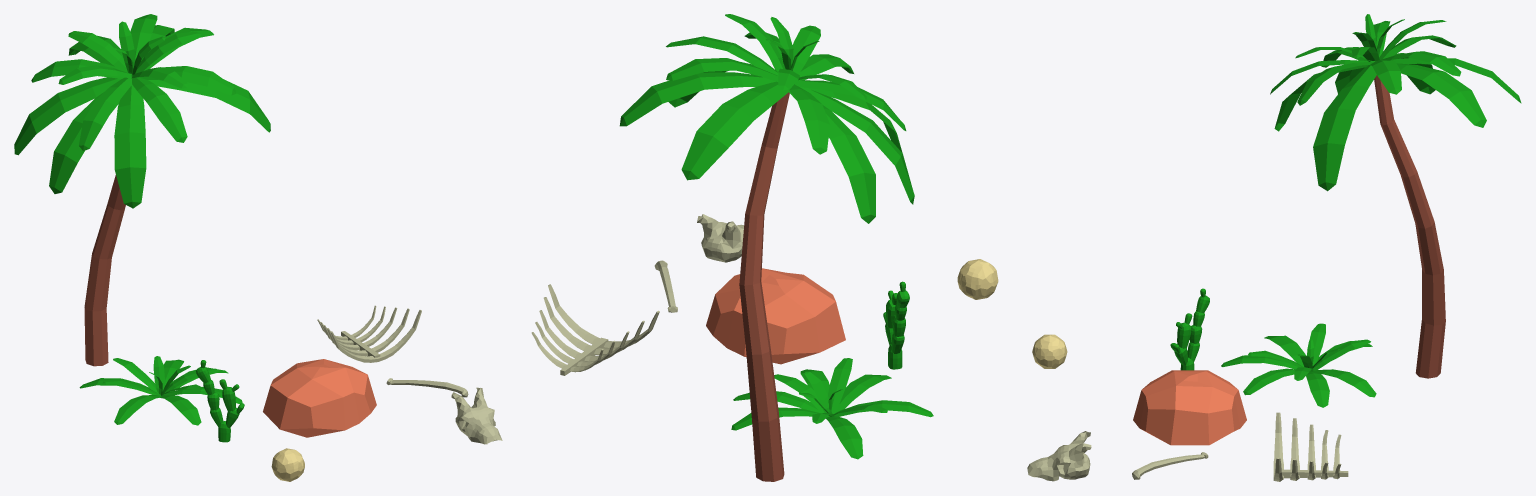
The model's file is instanciable_meshes.fbx.
The picture shows the model from 3 angles, left to right: view 1: azimuth 30°, elevation 25°; view 2: azimuth 150°, elevation 25°; view 3: azimuth 270°, elevation 25°; orthographic projection. The views are drawn at different scales.
Visible parts, largest first — view 1: Palm tree, Rock, Fern, Rib cage, Skull, Cactus, Tumbleweed, Bone; view 2: Palm tree, Rock, Fern, Rib cage, Skull, Cactus, Tumbleweed, Bone; view 3: Palm tree, Rock, Fern, Rib cage, Skull, Cactus, Tumbleweed, Bone.
Boxes of the visible parts, bbox=[...] form: Palm tree: bbox=[14, 14, 270, 366]; Rock: bbox=[263, 359, 376, 437]; Fern: bbox=[79, 356, 242, 425]; Rib cage: bbox=[317, 305, 421, 362]; Skull: bbox=[451, 387, 502, 444]; Cactus: bbox=[196, 360, 244, 442]; Tumbleweed: bbox=[271, 448, 304, 481]; Bone: bbox=[386, 378, 468, 397]; Palm tree: bbox=[619, 14, 914, 481]; Rock: bbox=[706, 268, 845, 364]; Fern: bbox=[731, 358, 933, 459]; Rib cage: bbox=[531, 284, 659, 375]; Skull: bbox=[697, 214, 743, 262]; Cactus: bbox=[883, 281, 909, 369]; Tumbleweed: bbox=[957, 259, 998, 299]; Bone: bbox=[654, 260, 677, 312]; Palm tree: bbox=[1270, 14, 1521, 378]; Rock: bbox=[1133, 370, 1246, 445]; Fern: bbox=[1221, 323, 1376, 407]; Rib cage: bbox=[1273, 412, 1348, 481]; Skull: bbox=[1027, 431, 1091, 481]; Cactus: bbox=[1170, 288, 1209, 370]; Tumbleweed: bbox=[1032, 334, 1067, 368]; Bone: bbox=[1132, 452, 1208, 479].
Size of the model in its own units: 681 by 688 by 829.
